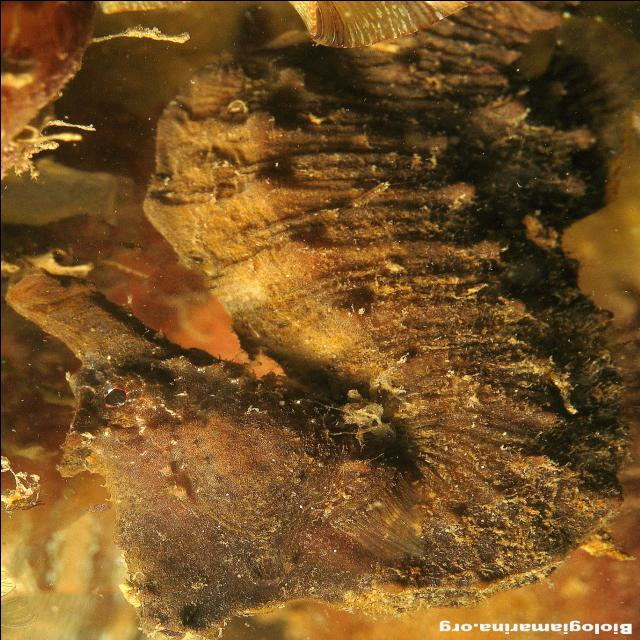Hippo: (0, 262, 380, 640)
